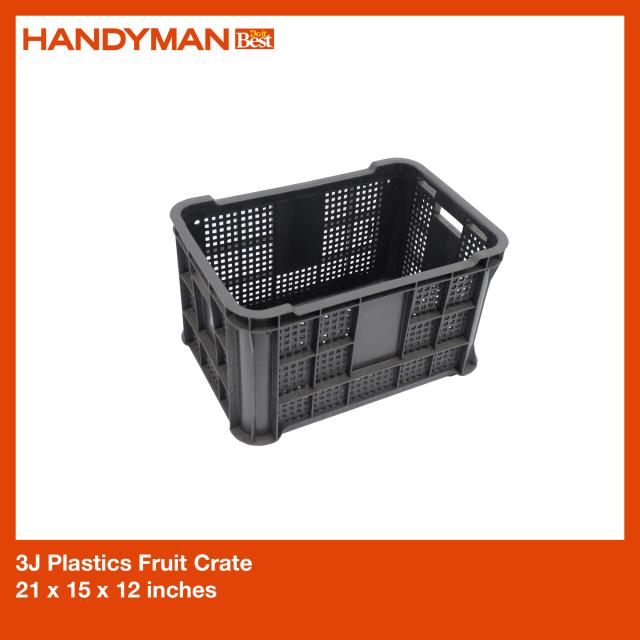basket: (155, 136, 539, 458)
